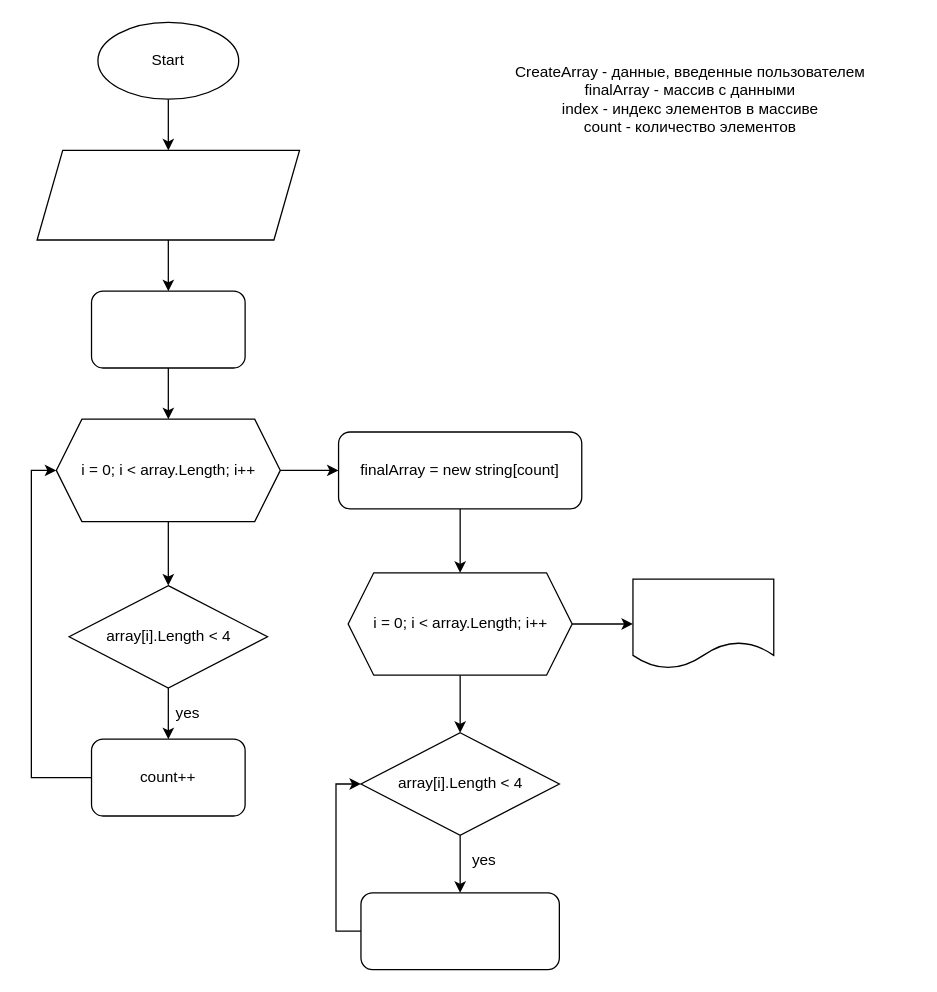
Some shapes in this 937 by 992 pixel diagram are drawn without their labels. Each missing label, with the centre of its shape:
CreateArray[string a, string b,...]: [168,194]
finalArray: [703,623]
finalArray[index] = array[i] index++: [459,931]
index = 0 count = 0: [167,329]
